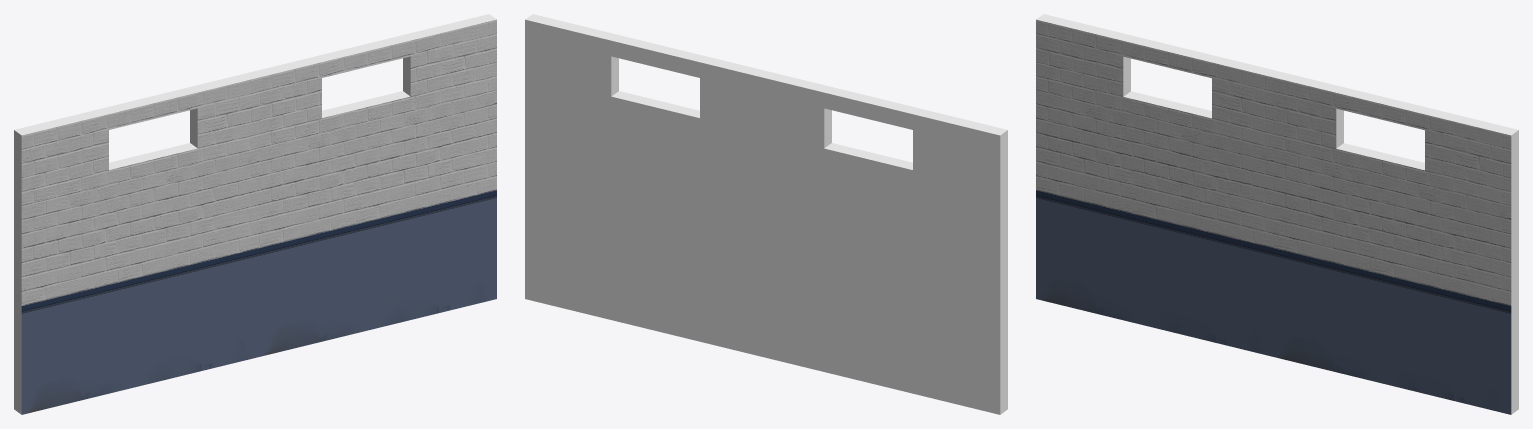
Rendered from Wall 4.FBX.
3 views of the same model, side by side, from view 1: azimuth 30°, elevation 25°; view 2: azimuth 150°, elevation 25°; view 3: azimuth 330°, elevation 25° (orthographic).
Visible parts, largest first — view 1: Wall 4; view 2: Wall 4; view 3: Wall 4.
Boxes of the visible parts, x1=… form: Wall 4: x1=14, y1=14, x2=496, y2=414; Wall 4: x1=525, y1=14, x2=1007, y2=414; Wall 4: x1=1036, y1=14, x2=1518, y2=414.
Bounding box in the file's own units: 473 × 266 × 13.24.
Materials: 2 (1 with a texture image).
